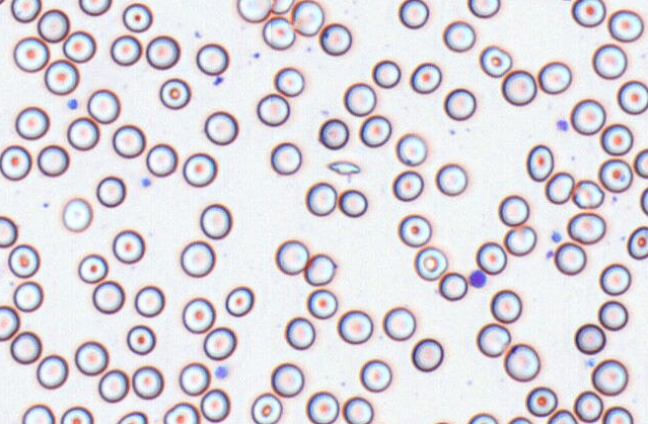PLT: (469, 269, 489, 289), (213, 364, 232, 381), (549, 229, 563, 245), (64, 97, 79, 111), (555, 118, 570, 132), (140, 175, 152, 189), (544, 249, 555, 261)
RBC: (90, 279, 166, 318), (503, 342, 540, 382), (591, 358, 628, 396), (500, 69, 537, 106), (569, 98, 606, 135), (179, 239, 215, 277), (12, 36, 49, 72), (43, 58, 79, 95), (591, 43, 627, 79), (336, 309, 373, 344), (567, 211, 606, 244), (274, 239, 309, 275), (181, 296, 215, 333), (607, 8, 644, 42), (476, 322, 511, 357), (598, 158, 633, 193), (14, 105, 49, 140), (145, 34, 180, 69), (182, 152, 217, 187), (382, 305, 416, 341), (290, 0, 324, 36), (86, 88, 120, 124), (111, 228, 145, 264), (270, 362, 304, 397), (413, 246, 447, 281), (74, 340, 108, 375), (397, 213, 432, 247), (66, 116, 100, 151), (537, 60, 572, 94), (204, 110, 238, 145), (199, 203, 232, 239), (91, 280, 125, 314), (202, 326, 236, 360), (111, 124, 145, 158), (489, 288, 522, 323), (410, 337, 443, 372), (7, 243, 40, 278), (303, 252, 336, 286), (131, 365, 164, 399), (9, 330, 42, 364), (359, 358, 392, 392), (553, 241, 586, 275), (262, 16, 295, 50), (62, 30, 96, 63), (305, 390, 339, 423), (343, 82, 376, 116), (36, 8, 69, 42), (256, 93, 290, 126), (318, 22, 352, 55), (195, 42, 229, 75), (305, 181, 337, 216), (36, 354, 68, 389), (61, 197, 93, 232), (145, 142, 177, 177), (0, 144, 31, 180), (479, 44, 512, 77), (409, 61, 442, 94), (36, 144, 69, 177), (443, 87, 476, 120), (475, 241, 507, 275), (178, 362, 210, 396), (395, 132, 427, 166), (270, 141, 302, 175), (435, 162, 467, 196), (442, 20, 476, 52), (98, 368, 129, 403), (617, 79, 647, 115), (525, 144, 554, 181), (359, 114, 391, 147), (109, 34, 142, 66), (600, 123, 633, 155), (158, 77, 191, 109), (284, 316, 315, 350), (199, 388, 230, 422), (392, 169, 424, 201), (497, 194, 529, 226), (599, 263, 631, 295), (503, 225, 536, 256), (134, 284, 165, 317), (306, 288, 338, 319), (525, 386, 557, 417), (574, 323, 606, 354), (12, 280, 43, 312), (318, 117, 349, 149), (597, 299, 628, 331), (250, 392, 282, 423), (95, 175, 126, 207), (571, 179, 604, 209), (544, 171, 574, 204), (570, 0, 606, 27), (573, 390, 603, 422), (224, 285, 254, 317), (121, 2, 153, 32), (77, 253, 108, 283), (273, 66, 304, 96), (437, 271, 467, 301), (126, 324, 155, 355), (398, 0, 429, 29), (338, 188, 368, 217), (371, 59, 401, 88), (342, 396, 374, 423), (162, 401, 199, 423), (236, 0, 272, 22), (0, 304, 20, 341), (626, 225, 647, 260), (10, 0, 41, 22), (21, 403, 55, 423), (60, 405, 93, 423), (467, 0, 500, 18), (601, 405, 633, 423), (0, 215, 17, 247), (78, 0, 111, 16), (546, 408, 577, 423), (633, 148, 647, 178), (116, 410, 147, 423), (467, 412, 498, 423), (271, 0, 294, 14), (640, 186, 647, 215), (507, 415, 532, 423)
Schistocyte: (327, 158, 365, 176)
